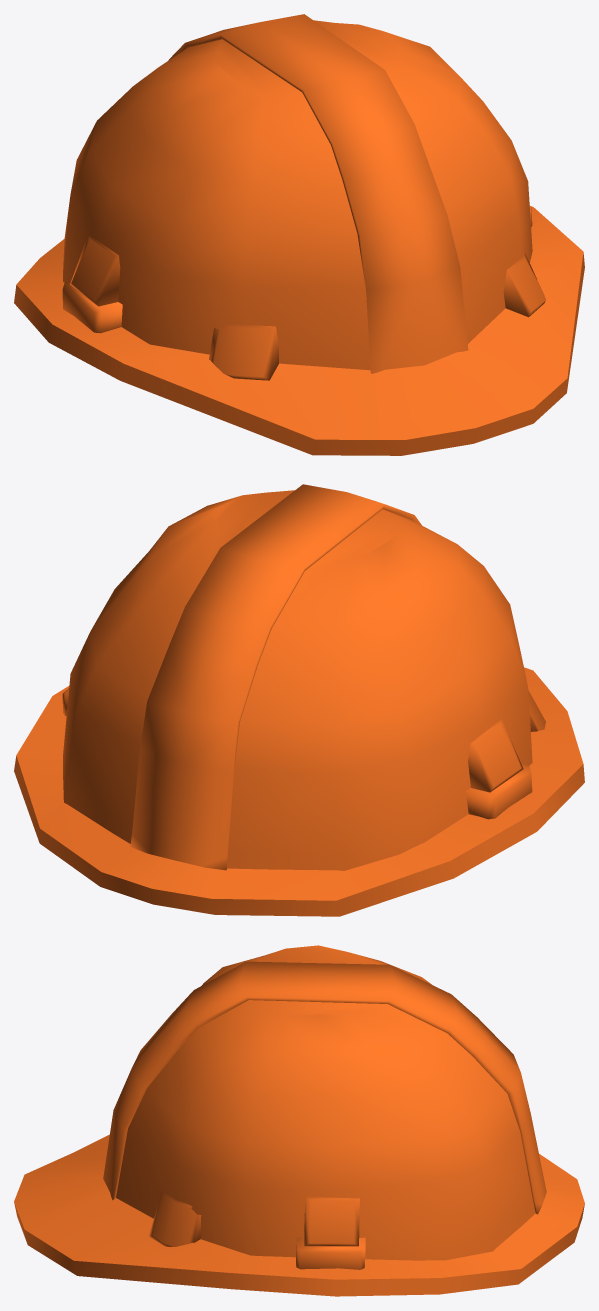
The model's file is hardhat.fbx.
3 renders of one model, top to bottom at view 1: azimuth 30°, elevation 25°; view 2: azimuth 150°, elevation 25°; view 3: azimuth 270°, elevation 25°, orthographic. The views are drawn at different scales.
Parts seen in each view (by area): view 1: Helment.001; view 2: Helment.001; view 3: Helment.001.
Part boxes in pixels (x1,y1,x2,y2): Helment.001: (14,14,584,455); Helment.001: (14,484,584,916); Helment.001: (14,945,584,1296).
Bounding box in the file's own units: 0.8516 × 0.4572 × 0.9776.
